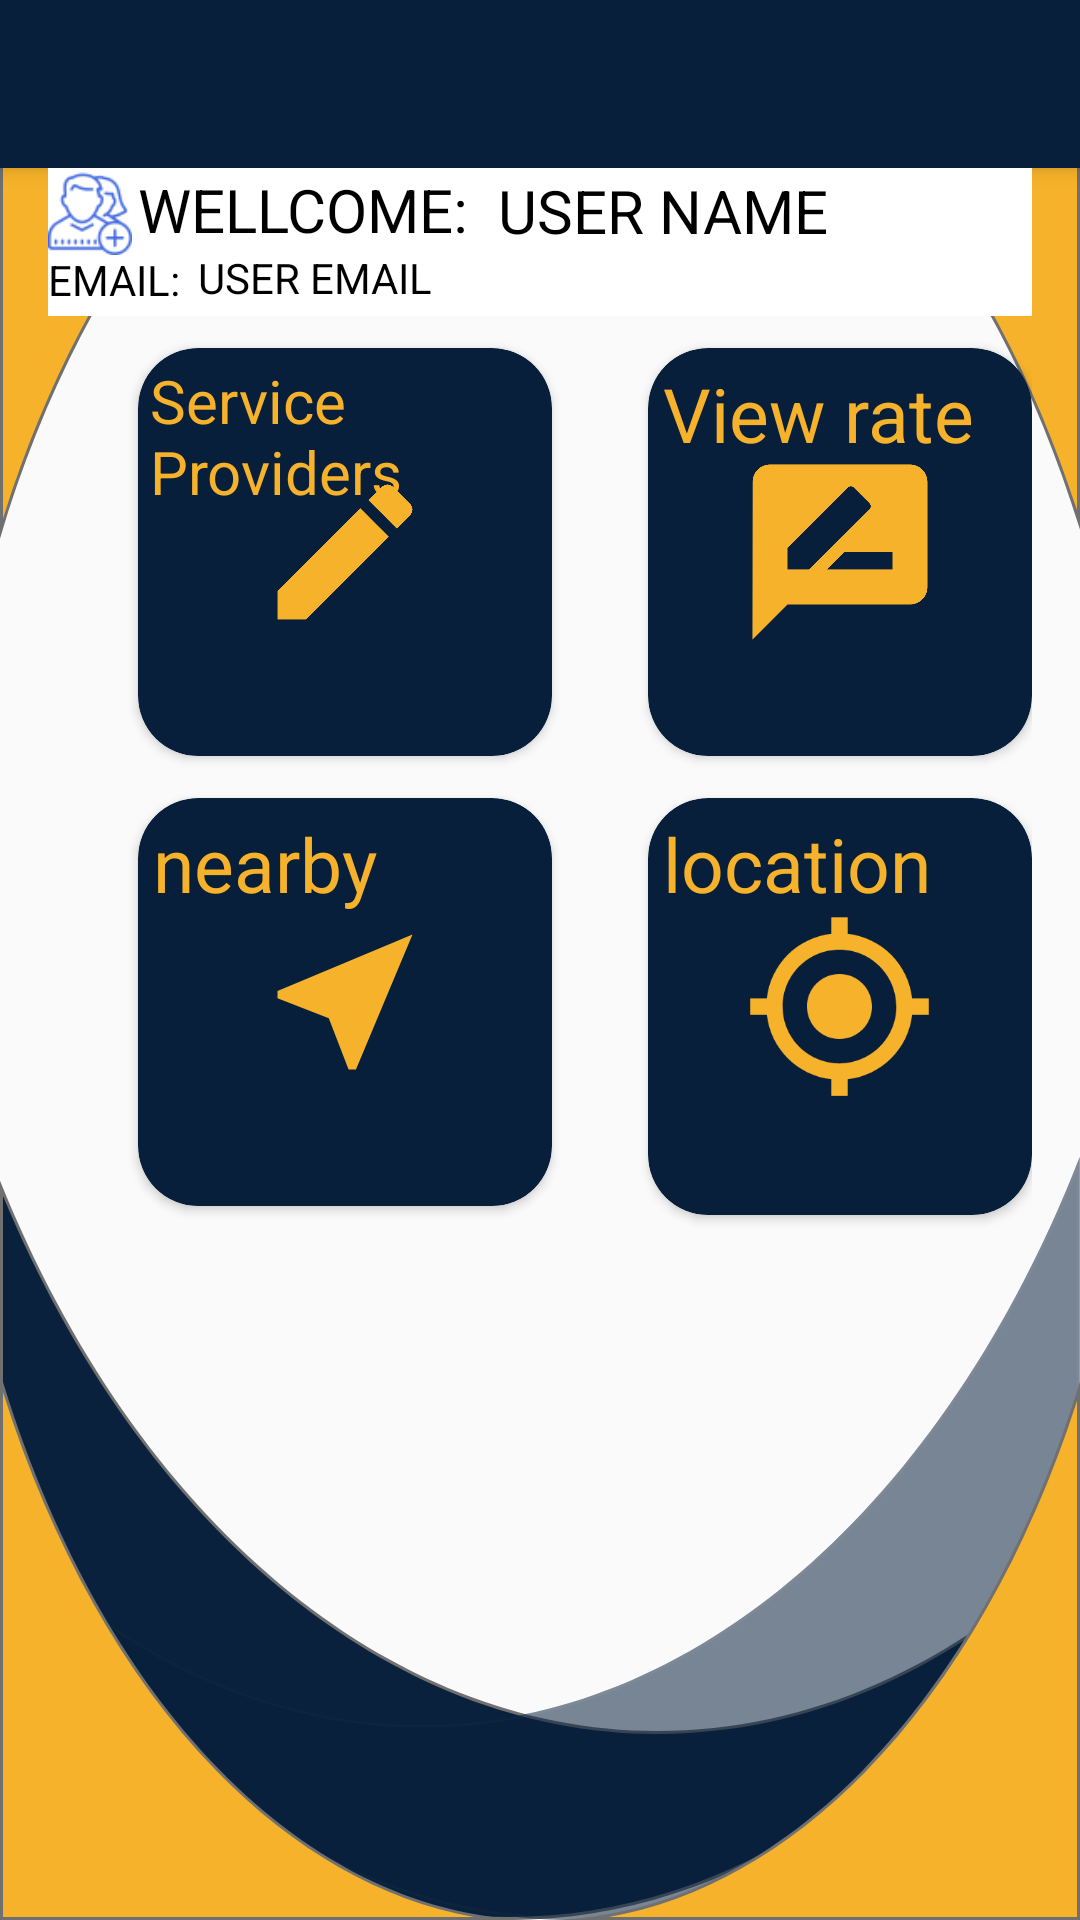

Icon click points for this 1080 x 1920 phone screenshot, format point (x, y):
create: point (343, 541)
users: point (90, 213)
